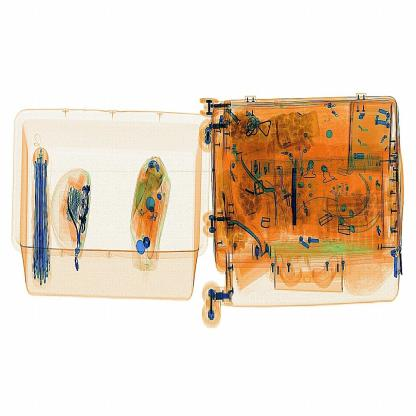pliers: (283, 154, 303, 233)
